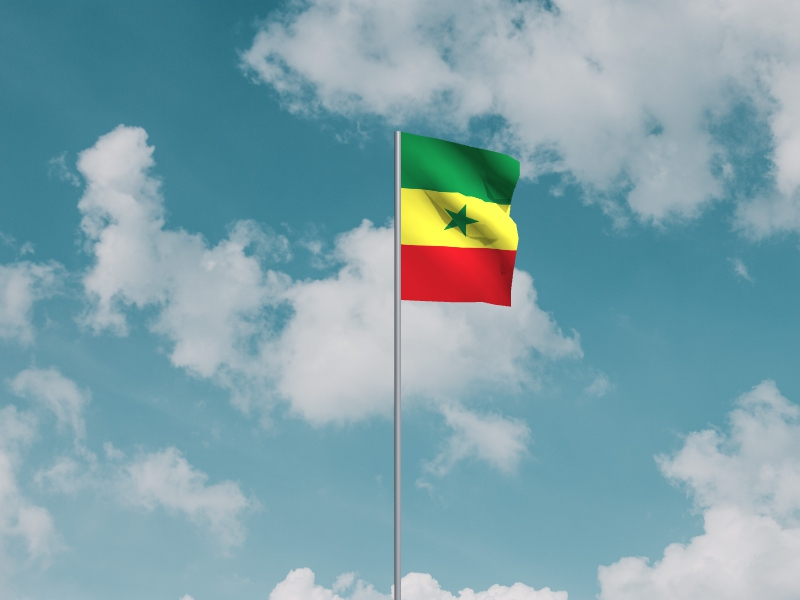sn: (402, 133, 522, 308)
